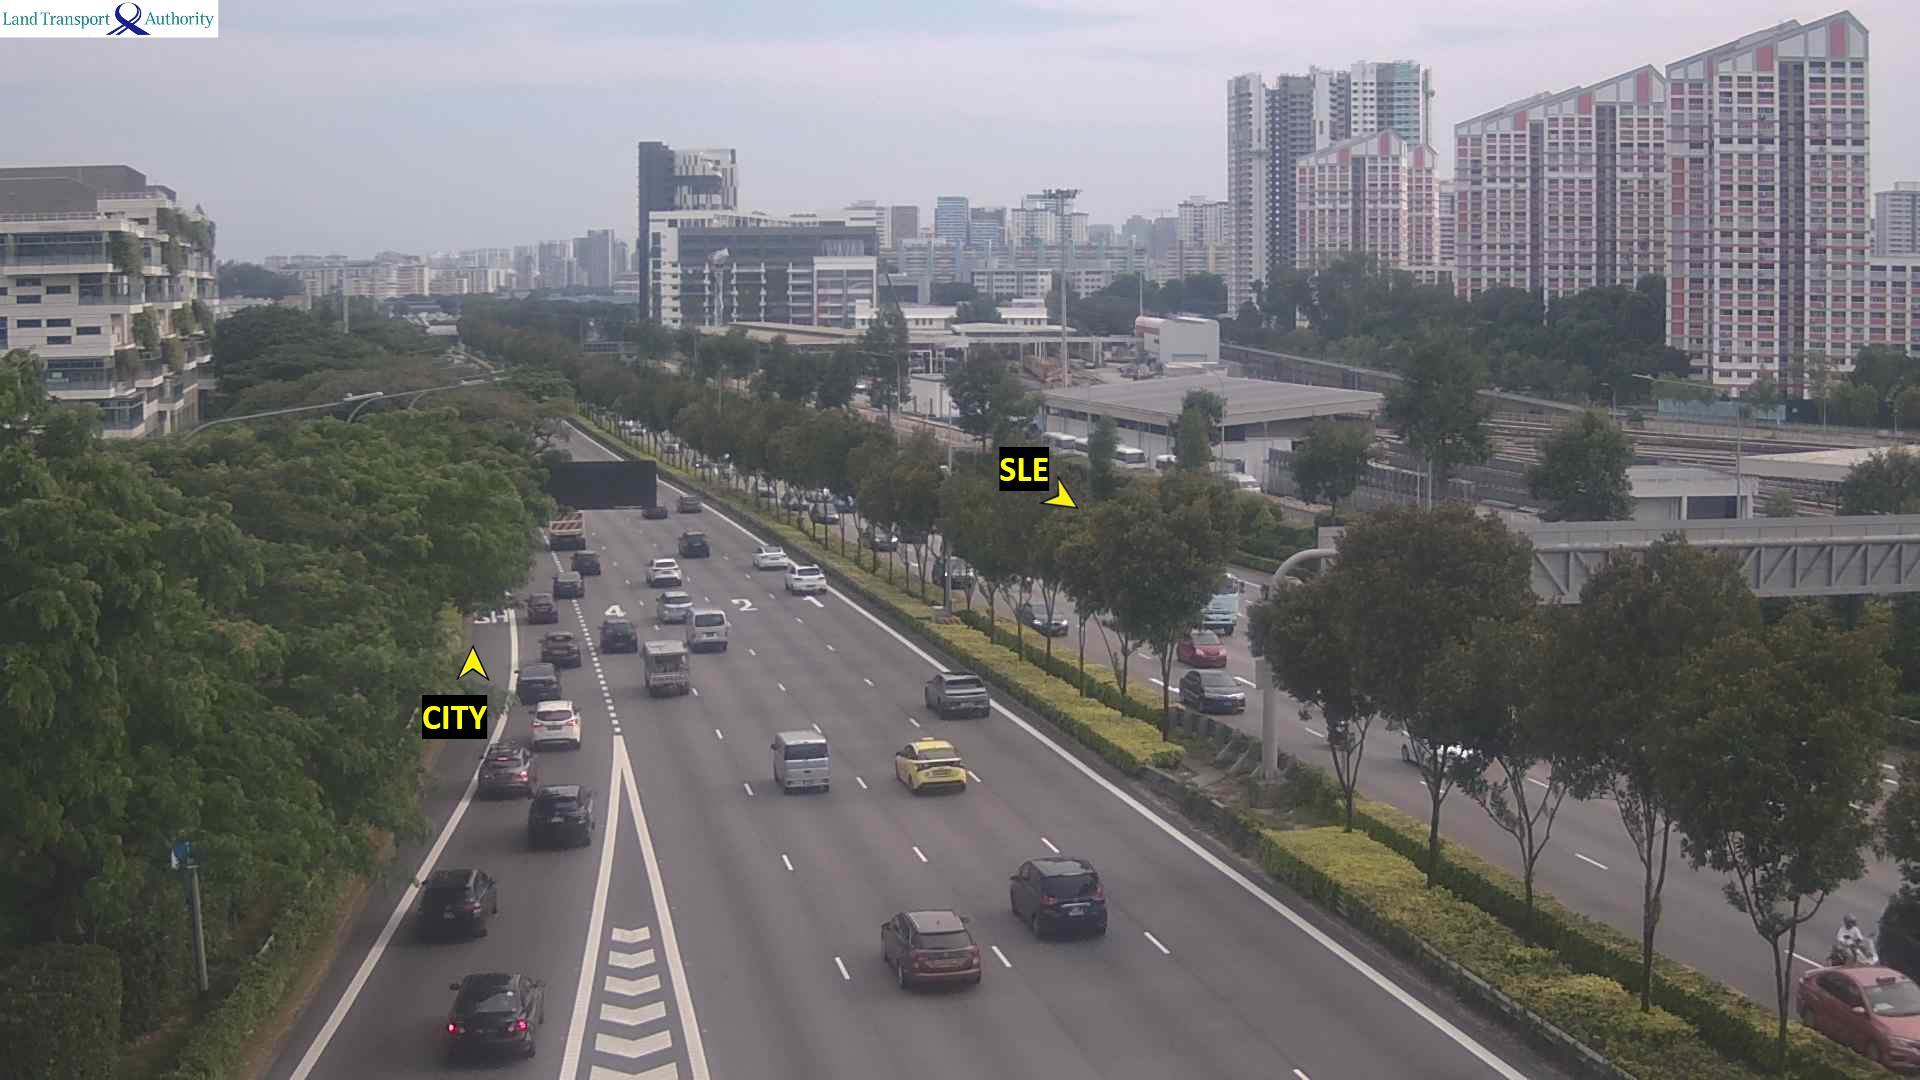incoming: (1201, 570, 1246, 634), (1189, 670, 1247, 715), (1185, 630, 1232, 669), (1029, 601, 1071, 637)
